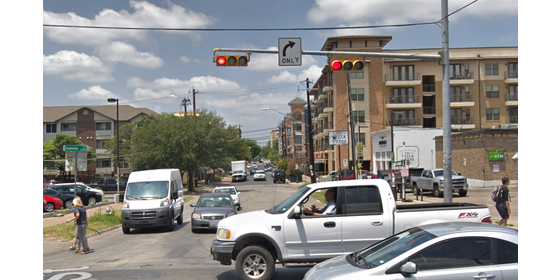right turn only sign: (276, 36, 304, 70)
